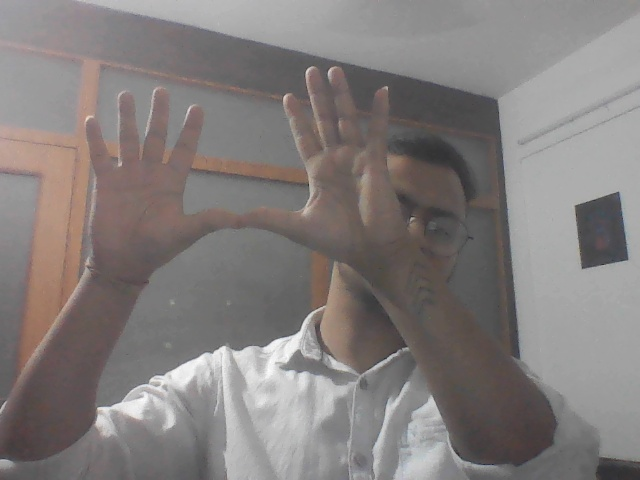Cheers: (73, 59, 399, 275)
